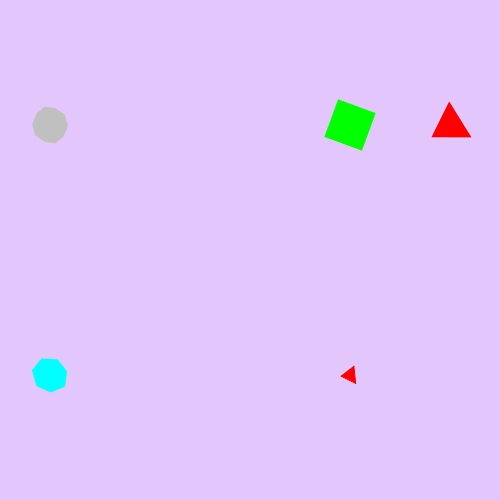decagon: (28, 104, 73, 146)
heptagon: (29, 354, 72, 396)
quadrilateral: (319, 94, 381, 156)
triangle: (429, 102, 472, 148), (338, 362, 363, 388)
